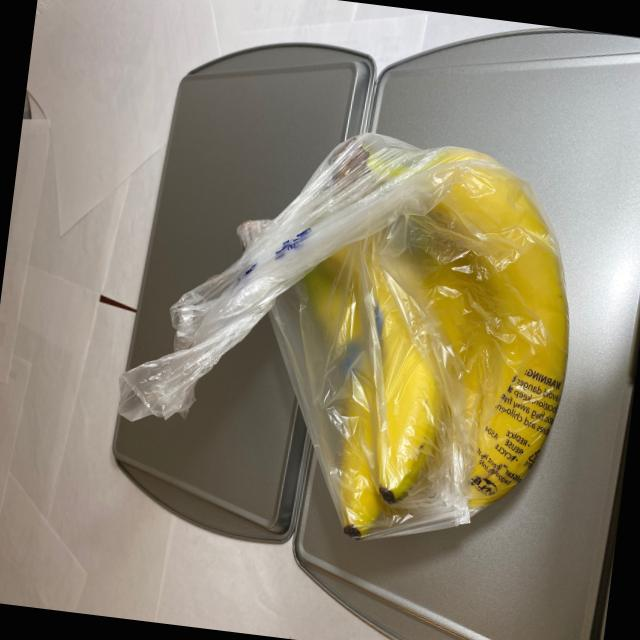banana: (260, 120, 596, 561)
